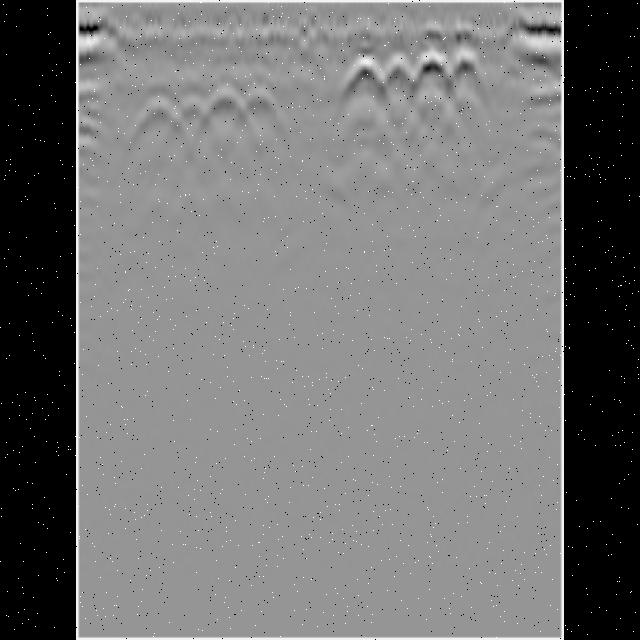hyperbola: (130, 94, 180, 134), (342, 54, 386, 96), (448, 44, 488, 90), (378, 50, 420, 92), (411, 45, 454, 85), (168, 89, 212, 128), (236, 81, 280, 119), (208, 86, 248, 122)
